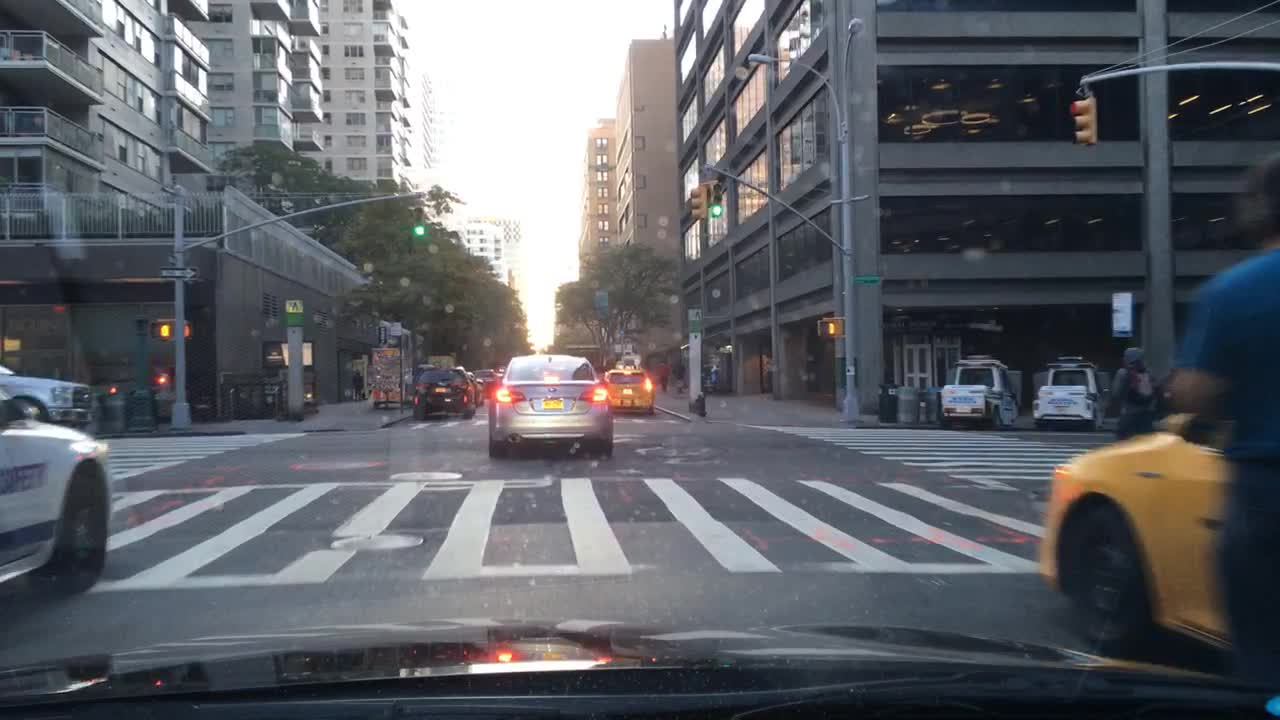car: (1042, 393, 1280, 663), (0, 381, 110, 608), (487, 353, 616, 459), (0, 358, 99, 436), (606, 353, 659, 418), (412, 364, 475, 418), (461, 370, 481, 402), (473, 367, 495, 389), (489, 361, 503, 378)
person: (1168, 144, 1280, 676), (1108, 344, 1158, 435), (656, 353, 672, 390), (352, 367, 361, 401)
traffic light: (1069, 91, 1097, 146), (688, 181, 702, 220), (711, 181, 725, 218), (411, 204, 423, 238), (151, 322, 176, 336), (824, 318, 836, 336), (180, 321, 192, 339)
traffic sign: (1111, 292, 1134, 335), (851, 270, 882, 284), (592, 292, 612, 310), (160, 267, 192, 276), (687, 310, 702, 329), (285, 299, 302, 315)
truck: (937, 352, 1022, 427), (1029, 353, 1106, 430)
